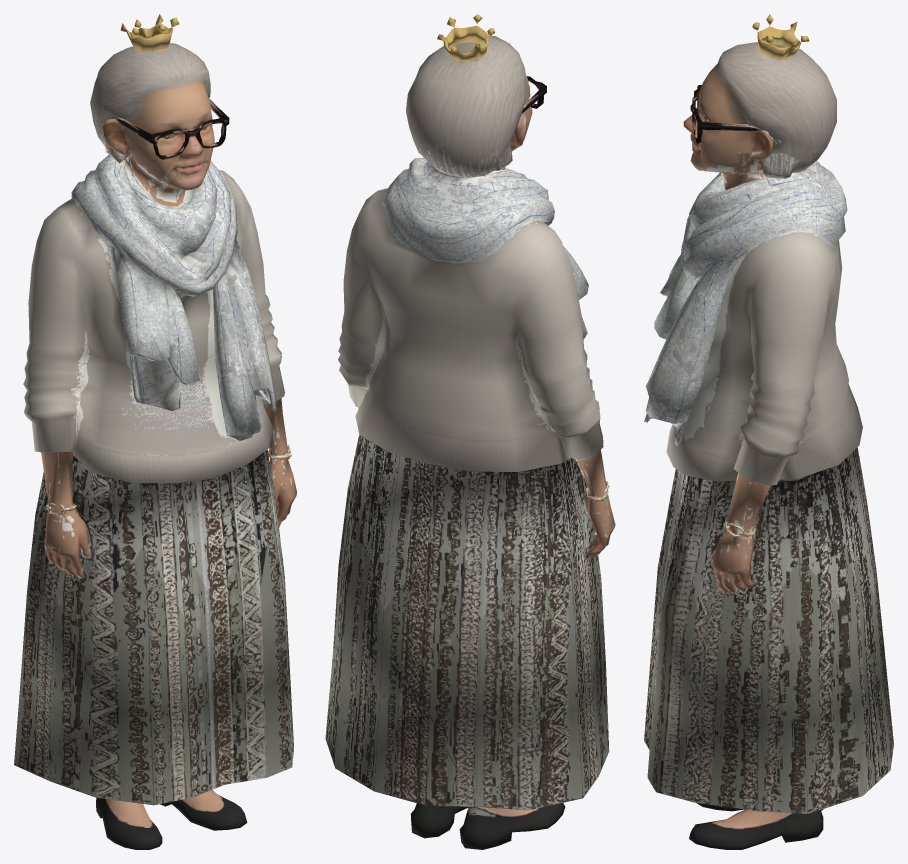
File: Queen_Marta_White.glb
3 renders of one model, left to right at view 1: azimuth 30°, elevation 25°; view 2: azimuth 150°, elevation 25°; view 3: azimuth 270°, elevation 25°, orthographic.
Parts seen in each view (by area): view 1: tripo_node_b99395c3-17ab-41d0-9afb-e73dacb02d55; view 2: tripo_node_b99395c3-17ab-41d0-9afb-e73dacb02d55; view 3: tripo_node_b99395c3-17ab-41d0-9afb-e73dacb02d55.
Boxes of the visible parts, x1,y1,x2,y2 form: tripo_node_b99395c3-17ab-41d0-9afb-e73dacb02d55: [14, 14, 296, 849]; tripo_node_b99395c3-17ab-41d0-9afb-e73dacb02d55: [325, 14, 615, 849]; tripo_node_b99395c3-17ab-41d0-9afb-e73dacb02d55: [644, 14, 893, 849].
Bounding box in the file's own units: 0.3301 × 0.998 × 0.2832.
Materials: 1 (1 with a texture image).
